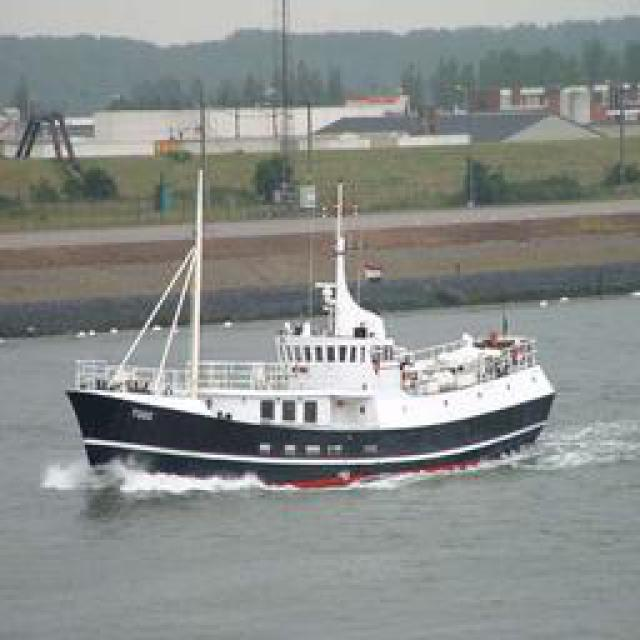Ship: (65, 143, 560, 481)
